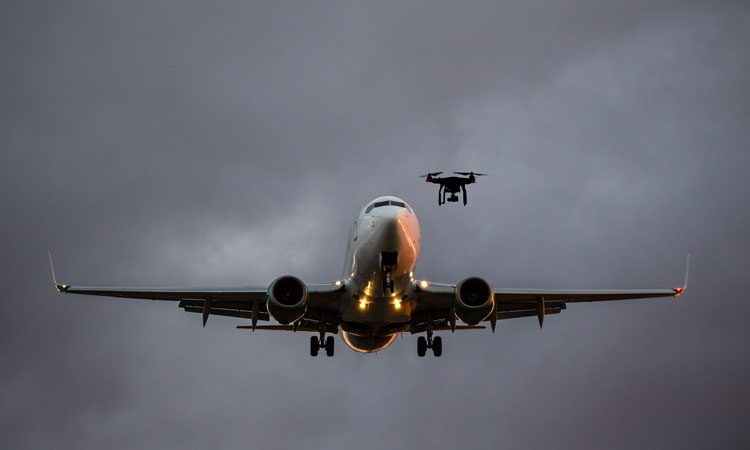drone: (413, 163, 488, 208)
